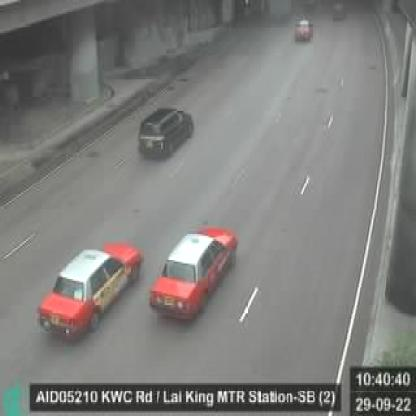Car: (27, 234, 142, 343), (146, 220, 242, 324), (134, 99, 194, 163), (291, 12, 315, 45), (329, 0, 346, 29)
